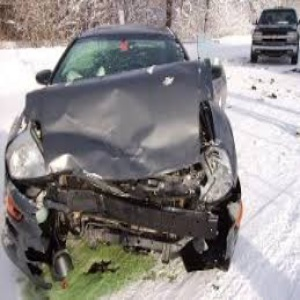bonnet: (39, 65, 215, 164)
bumper: (10, 183, 238, 288)
